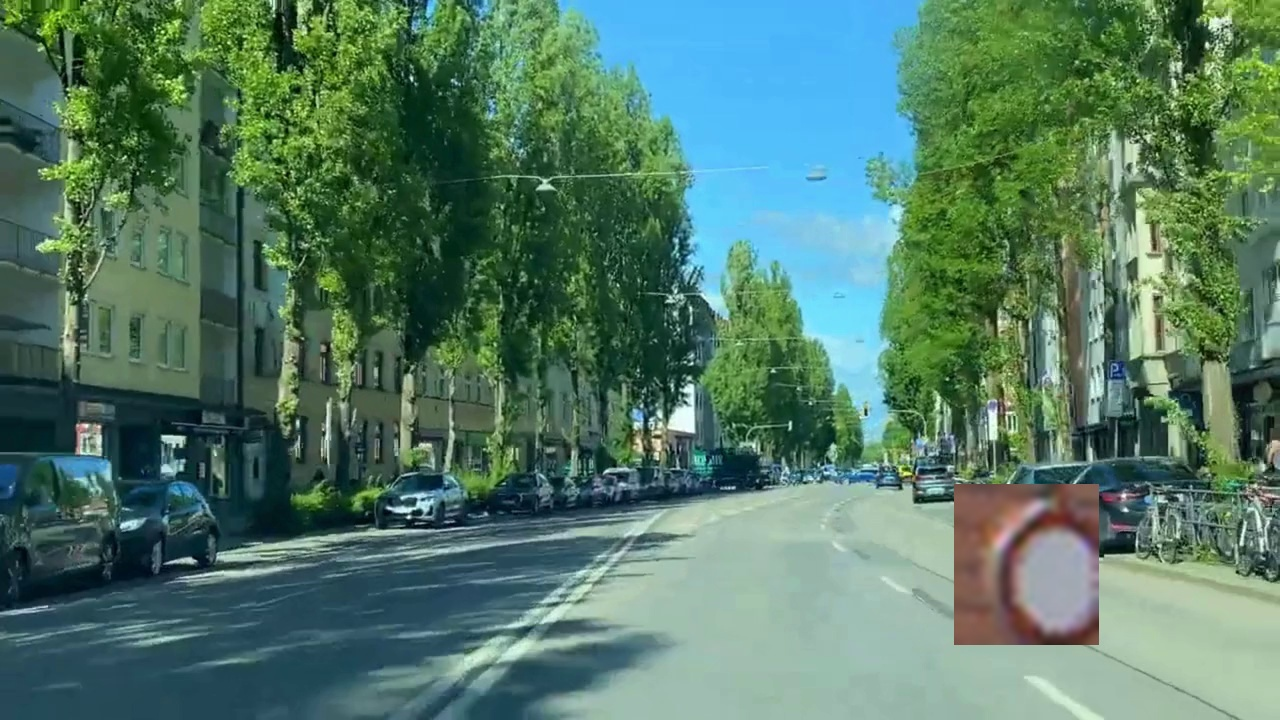No vehicles: (954, 484, 1099, 645)
